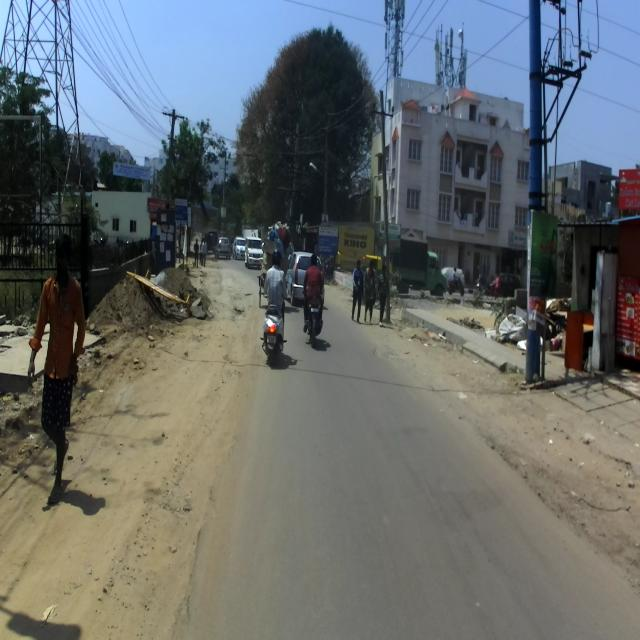electric pole ahead at: (522, 0, 560, 399)
motorcycle ahead at: (262, 305, 288, 364)
person ahead at: (27, 234, 85, 501)
